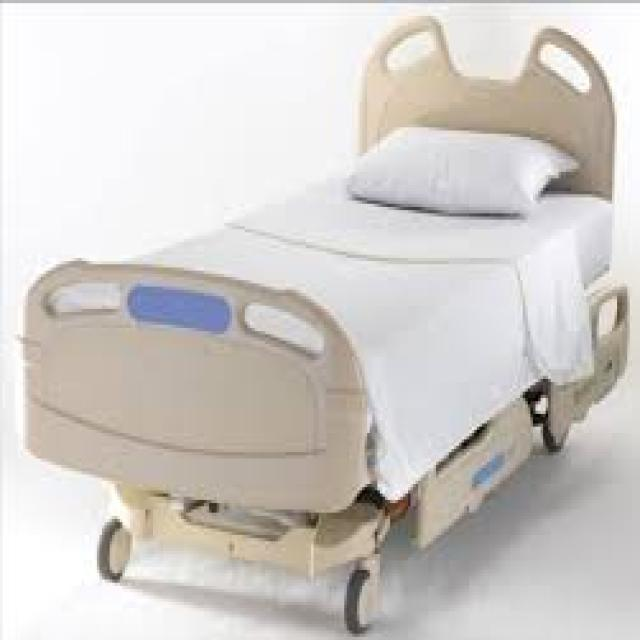bed: (18, 9, 628, 634)
